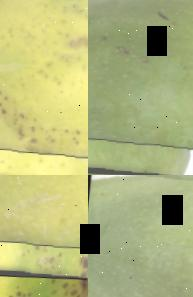PartiallyRipe: (0, 0, 88, 175), (0, 175, 88, 284)
Unripe: (88, 0, 193, 175), (88, 175, 193, 297)
